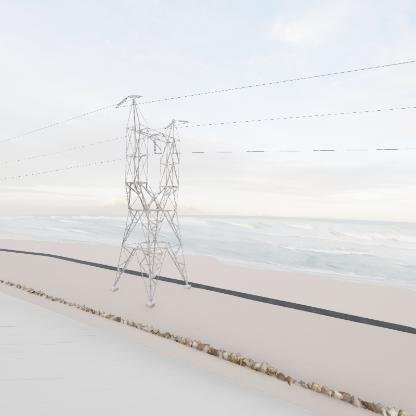tower: (108, 93, 192, 310)
